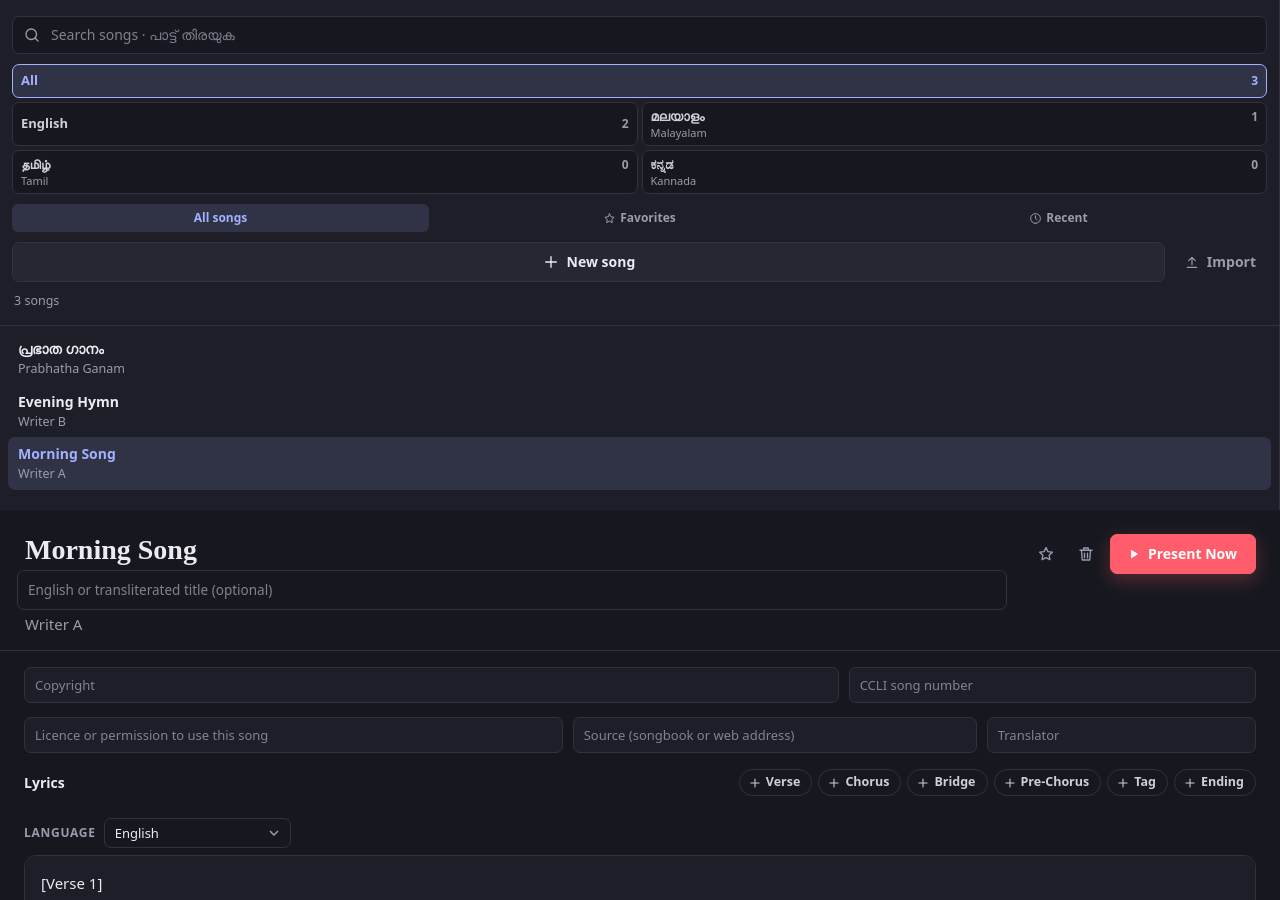
Songs: finding a song › finds Malayalam songs by their Malayalam or English title, and filters by language
Step 1. Type "prabhatha" into the field labelled "Search songs" → (656, 35), box [49, 19, 1262, 51]
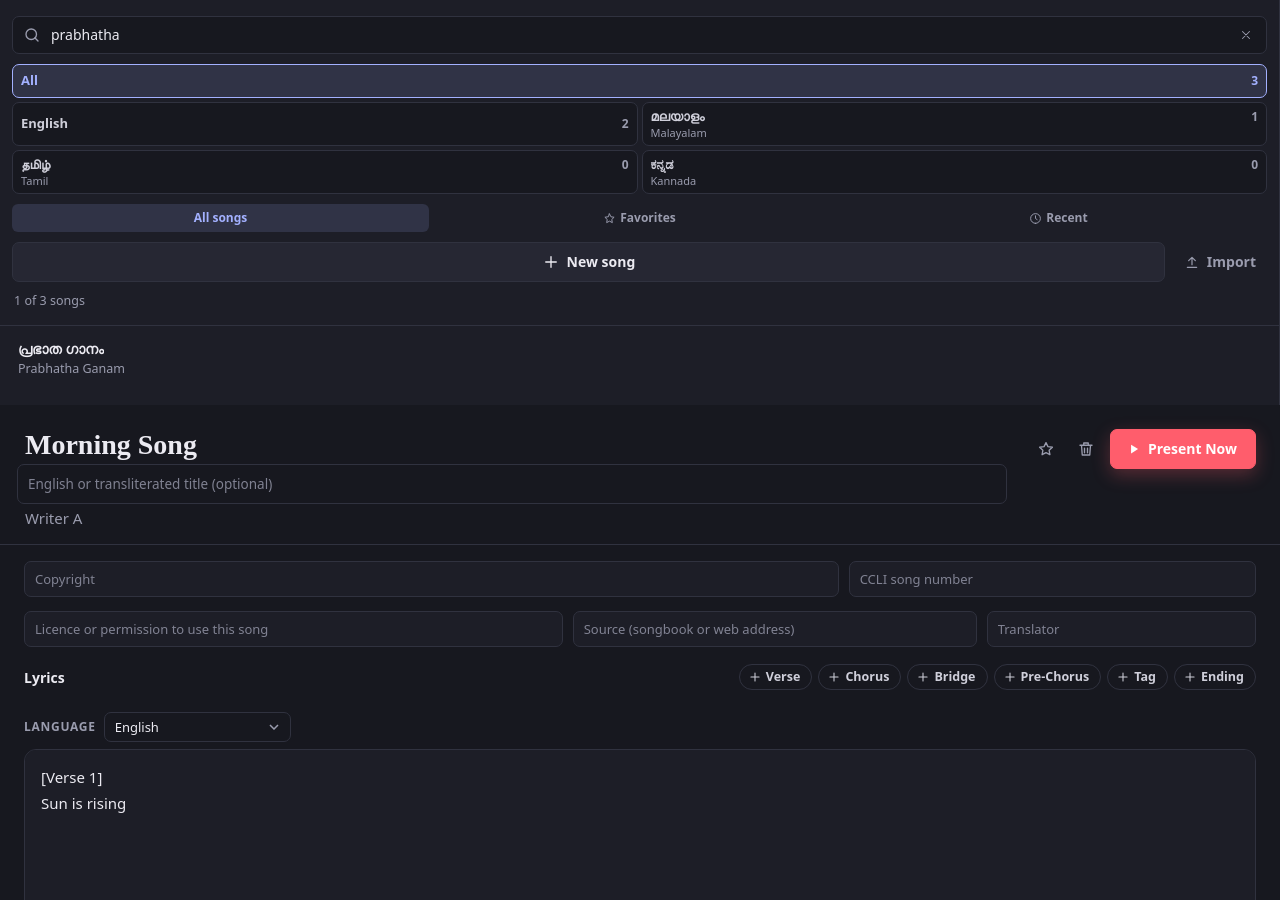
Step 2. Press Enter in the field named "Search songs", box [49, 19, 1222, 51]
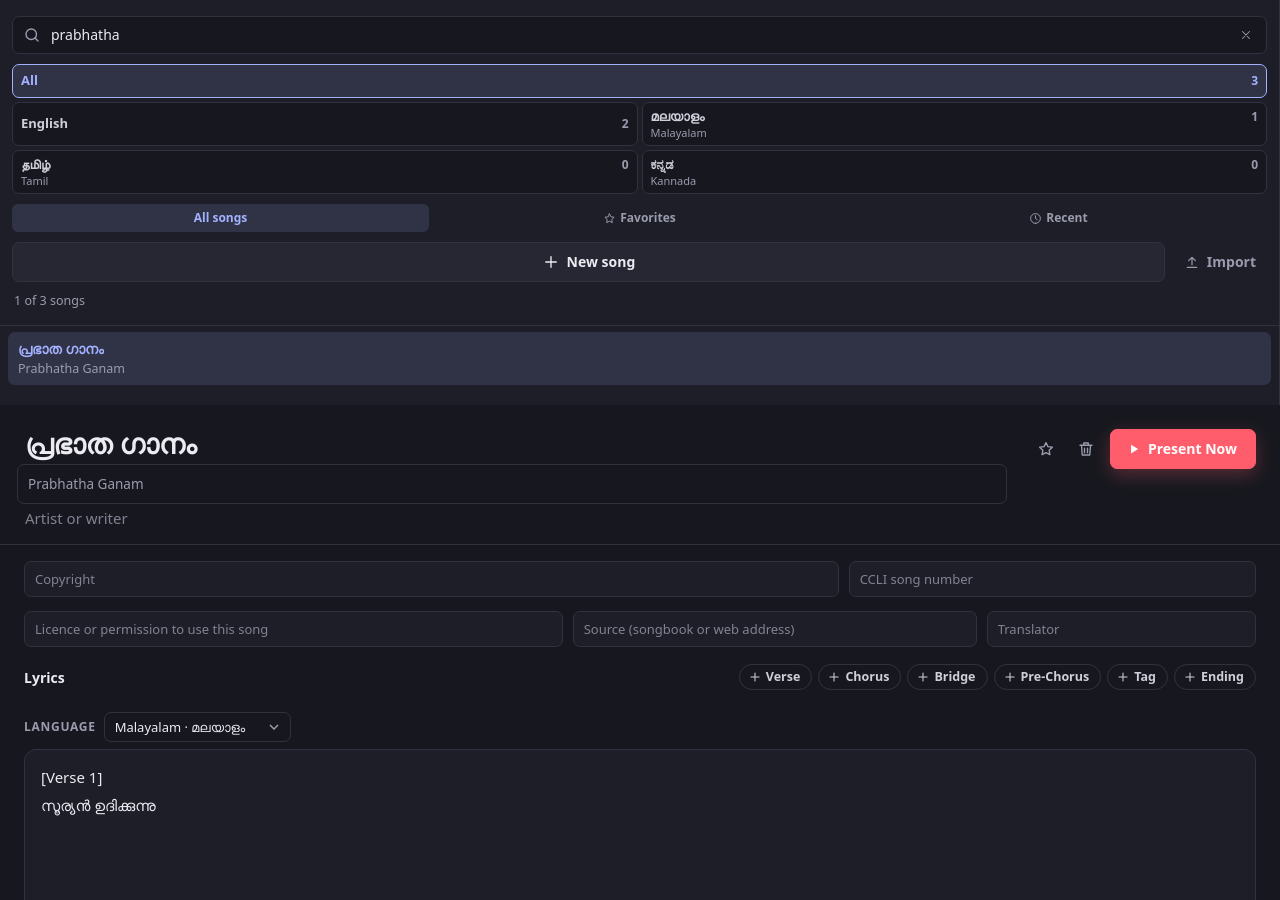
Check: the field named "Song title" holds "പ്രഭാത ഗാനം", box [14, 424, 1004, 464]
Check: the dropdown named "Lyrics language" shows "Malayalam · മലയാളം", box [104, 712, 291, 742]
Step 3. Clear the field named "Search songs" → (636, 35), box [49, 19, 1222, 51]
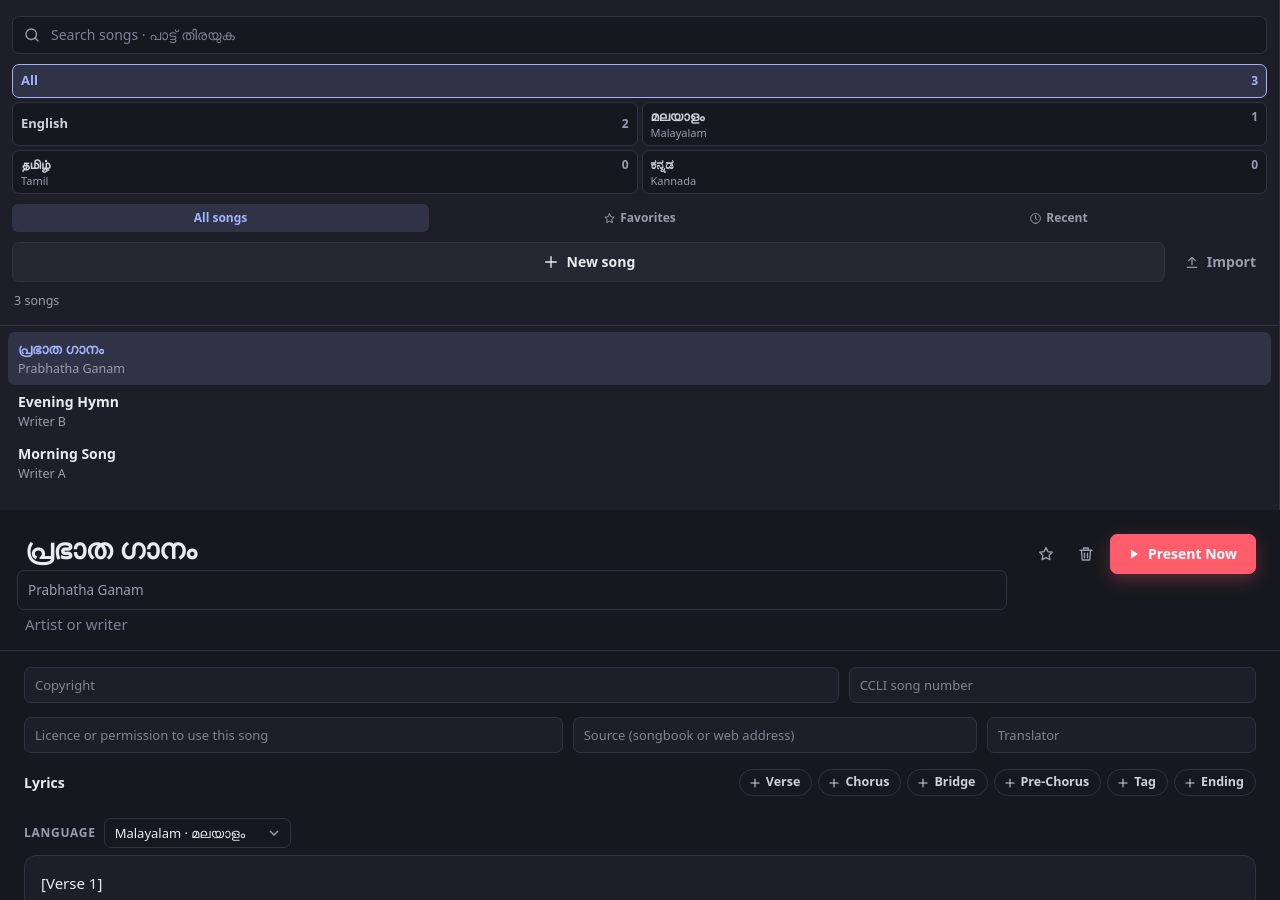
Step 4. Click the radio button labelled "Malayalam" → (677, 116), box [642, 102, 1267, 146]
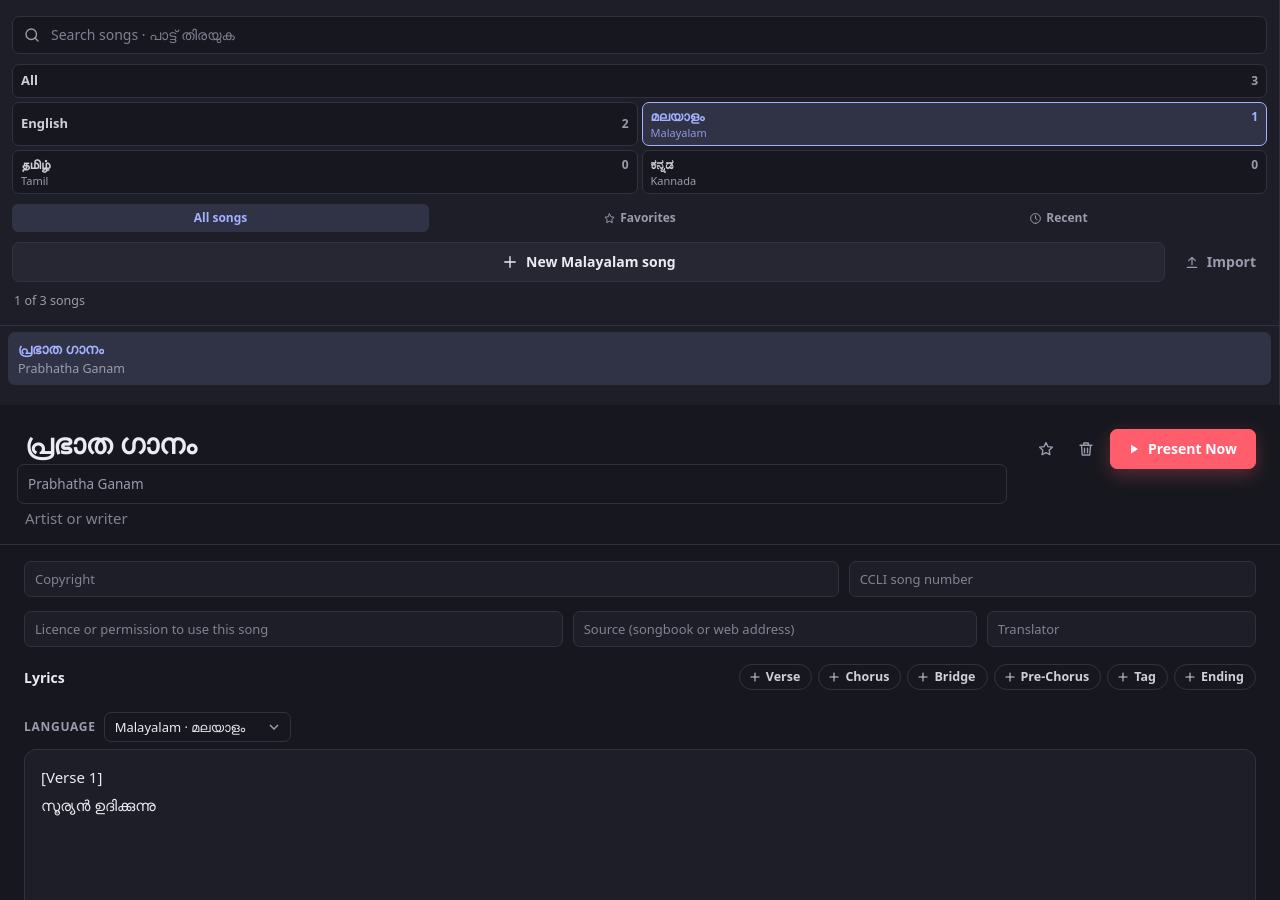
Check: the text "1 of 3 songs" is shown, box [14, 292, 85, 309]
